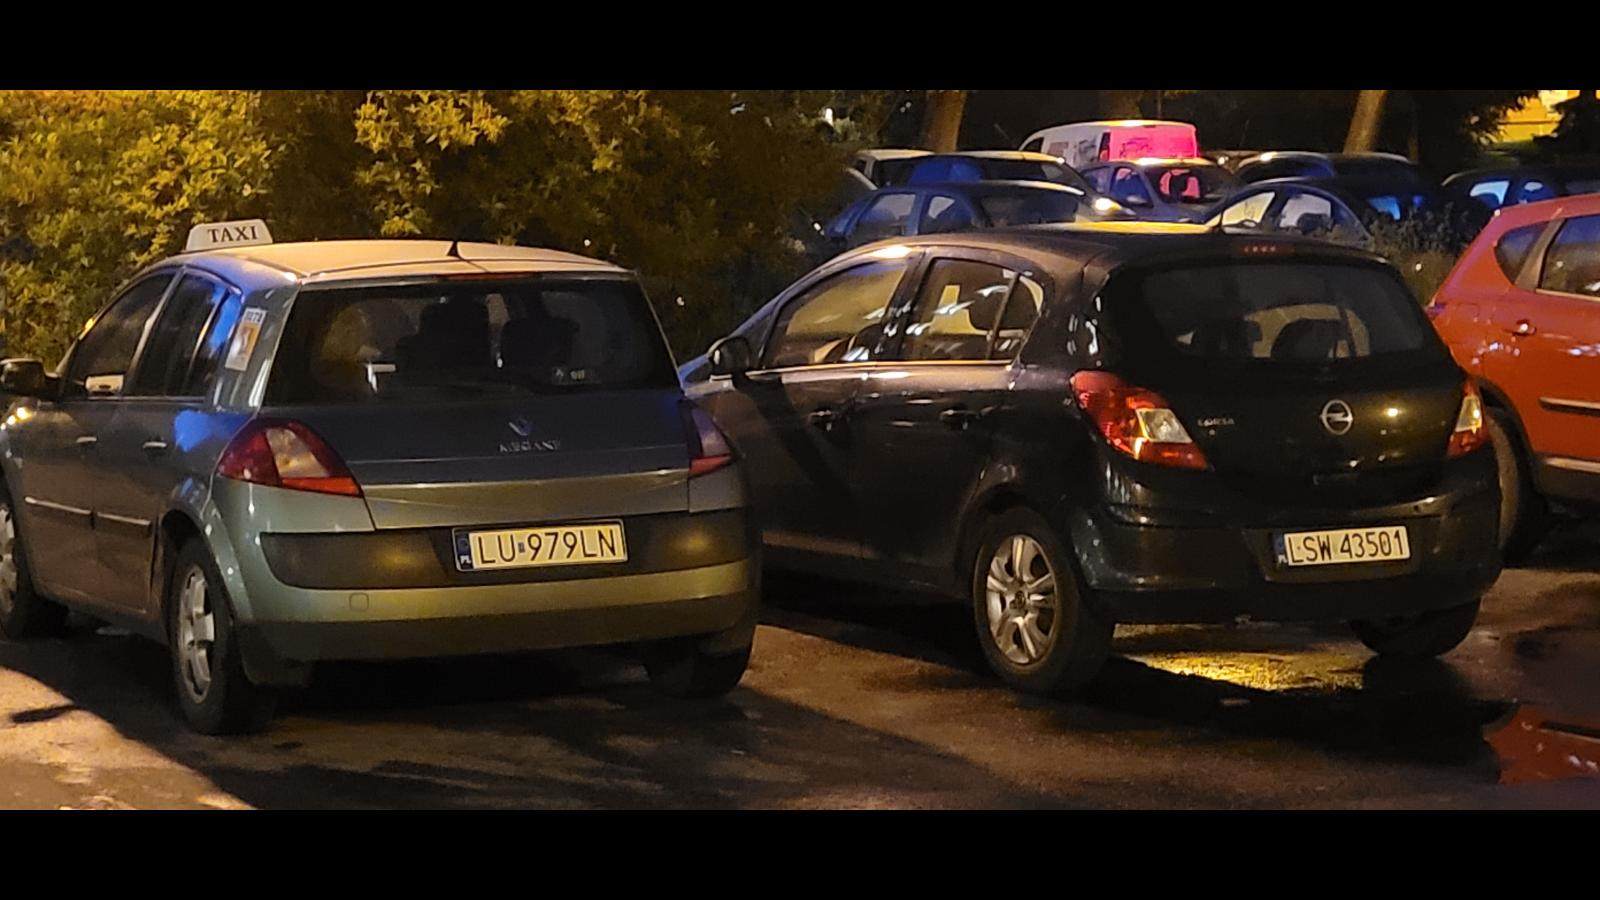plates: (453, 519, 628, 571), (1272, 522, 1412, 570)
